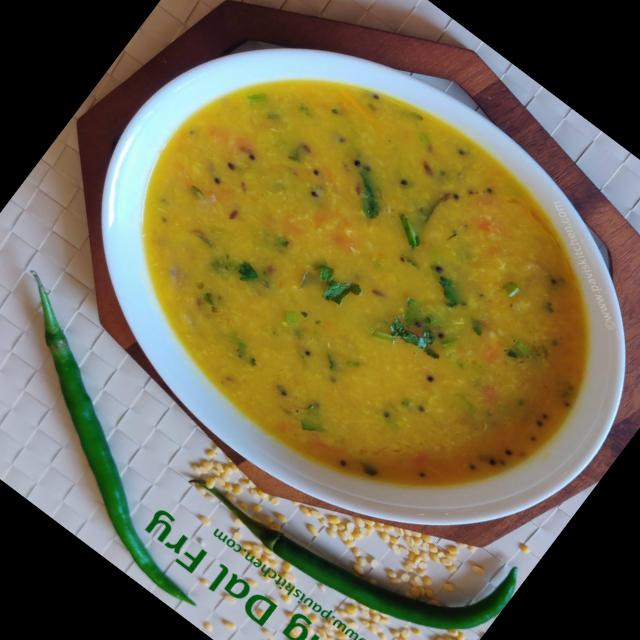dal: (62, 19, 631, 564)
